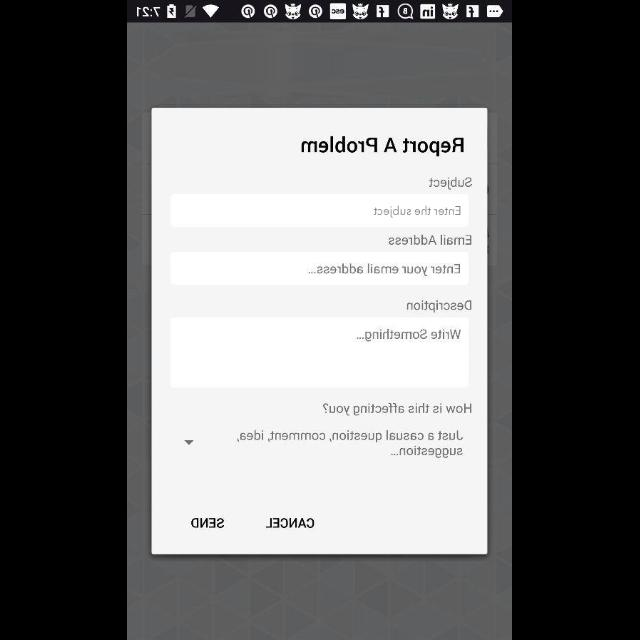input: (170, 317, 470, 389), (170, 252, 470, 286), (170, 194, 470, 228)
panel: (152, 108, 488, 554)
text: (238, 431, 464, 459), (302, 138, 463, 156), (310, 264, 460, 276), (323, 404, 471, 416), (357, 330, 461, 342), (374, 206, 461, 218), (389, 235, 471, 245), (408, 301, 472, 313), (429, 177, 473, 191), (266, 518, 314, 528), (192, 518, 224, 528)
uppertaskbar: (128, 1, 512, 23)
